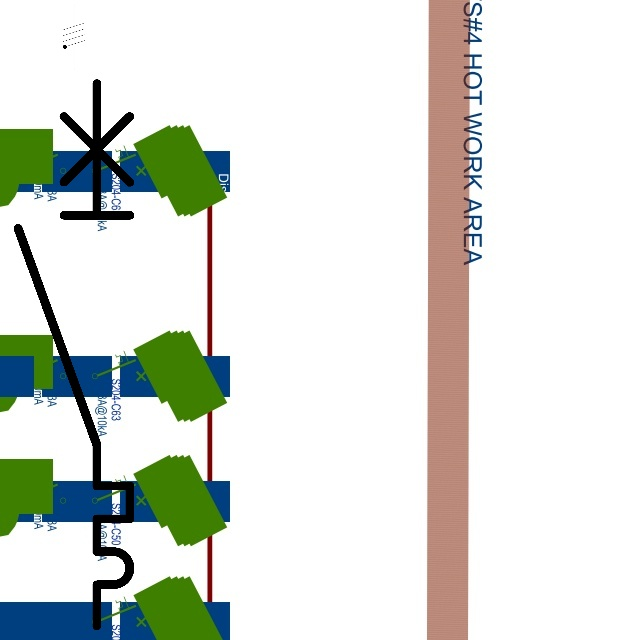interruptor_termomagnetico: (4, 69, 144, 640)
